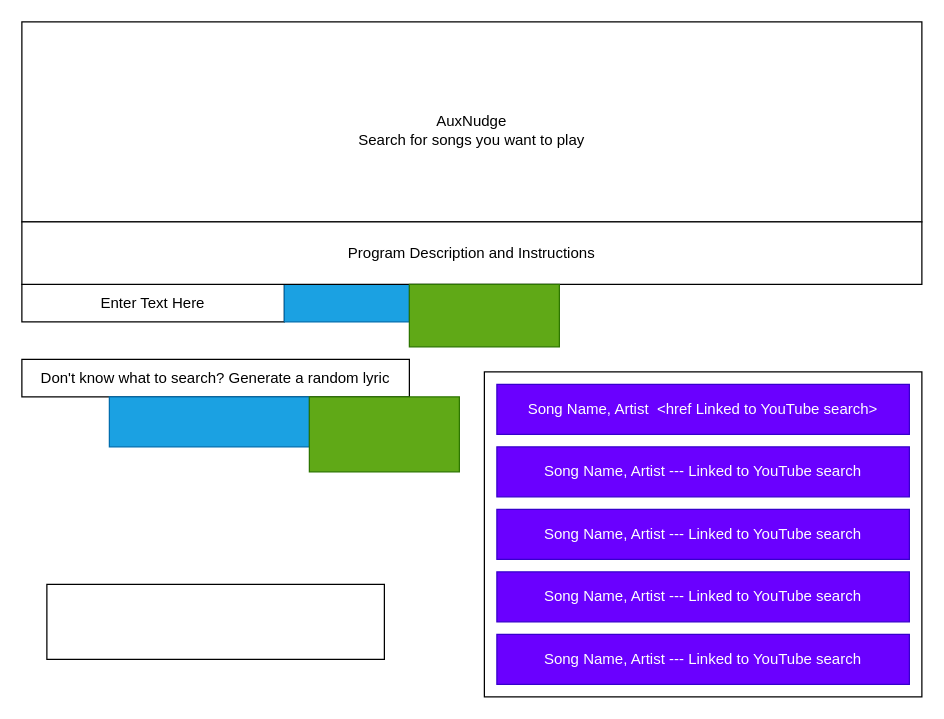
Image size: 944x719. Some labels were removed from this diagram. Here are the shapes that lost their labels. From the top down, the centre of each, then its label:
At point (346, 302): "Search Lyrics".
At point (483, 315): "Modal Pop-Up for additional search criteria".
At point (208, 421): "Generate Random Word to Search".
At point (383, 434): "Modal Pop-Up for random word criteria (# of words, have user approve words)".
At point (215, 621): "Append random string here".
